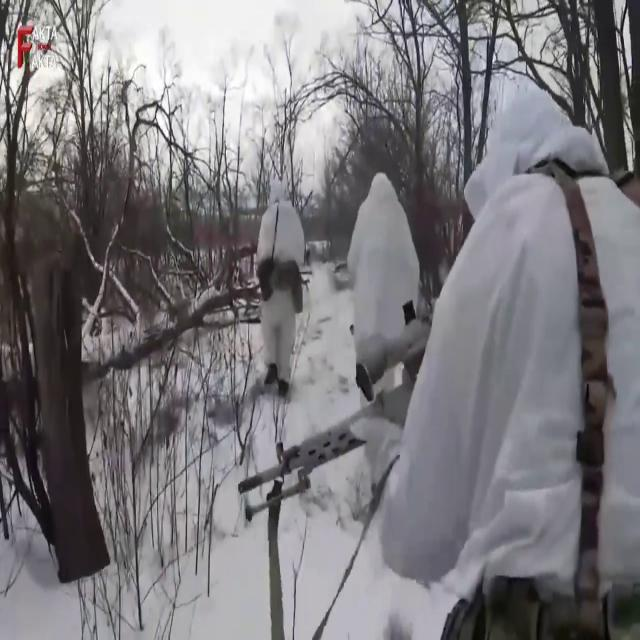Human: (240, 89, 640, 625), (348, 174, 421, 394), (253, 184, 306, 399)
